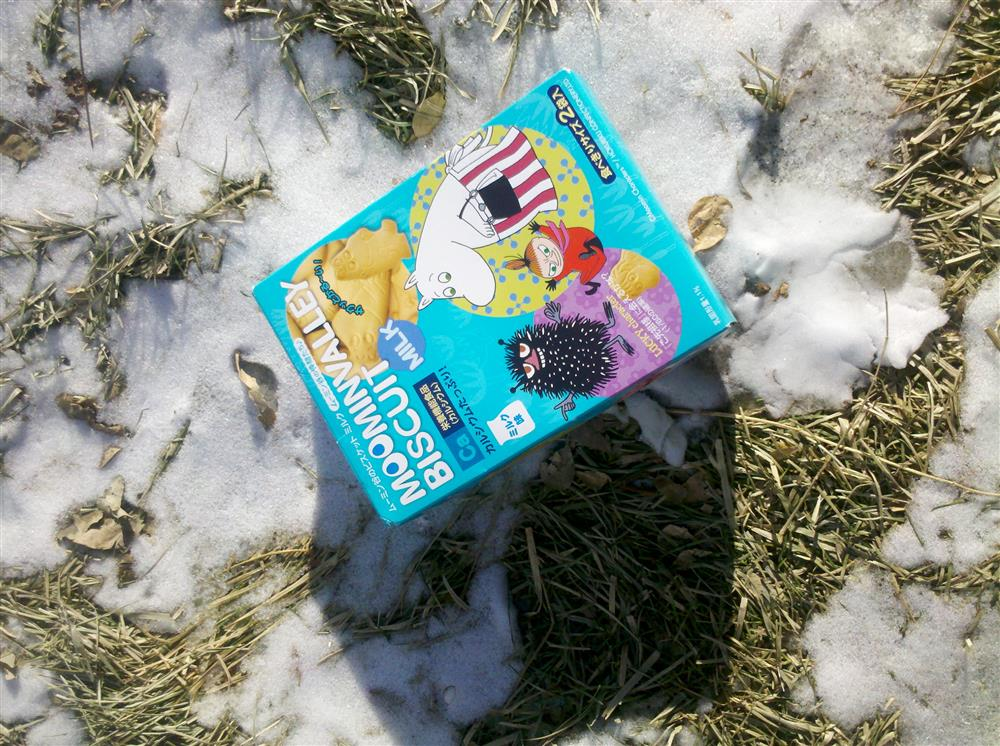Moominvalley_Biscuit: (239, 73, 737, 523)
